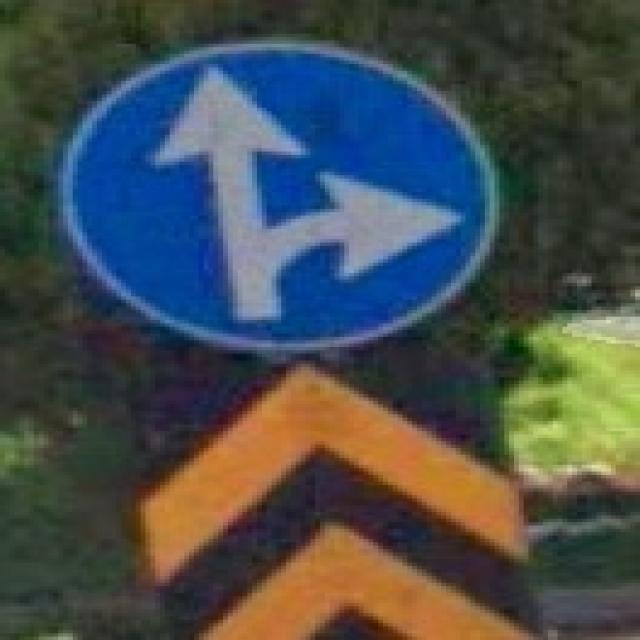Straight or Right: (57, 52, 517, 358)
